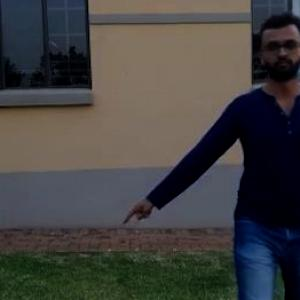land: (132, 40, 299, 299)
